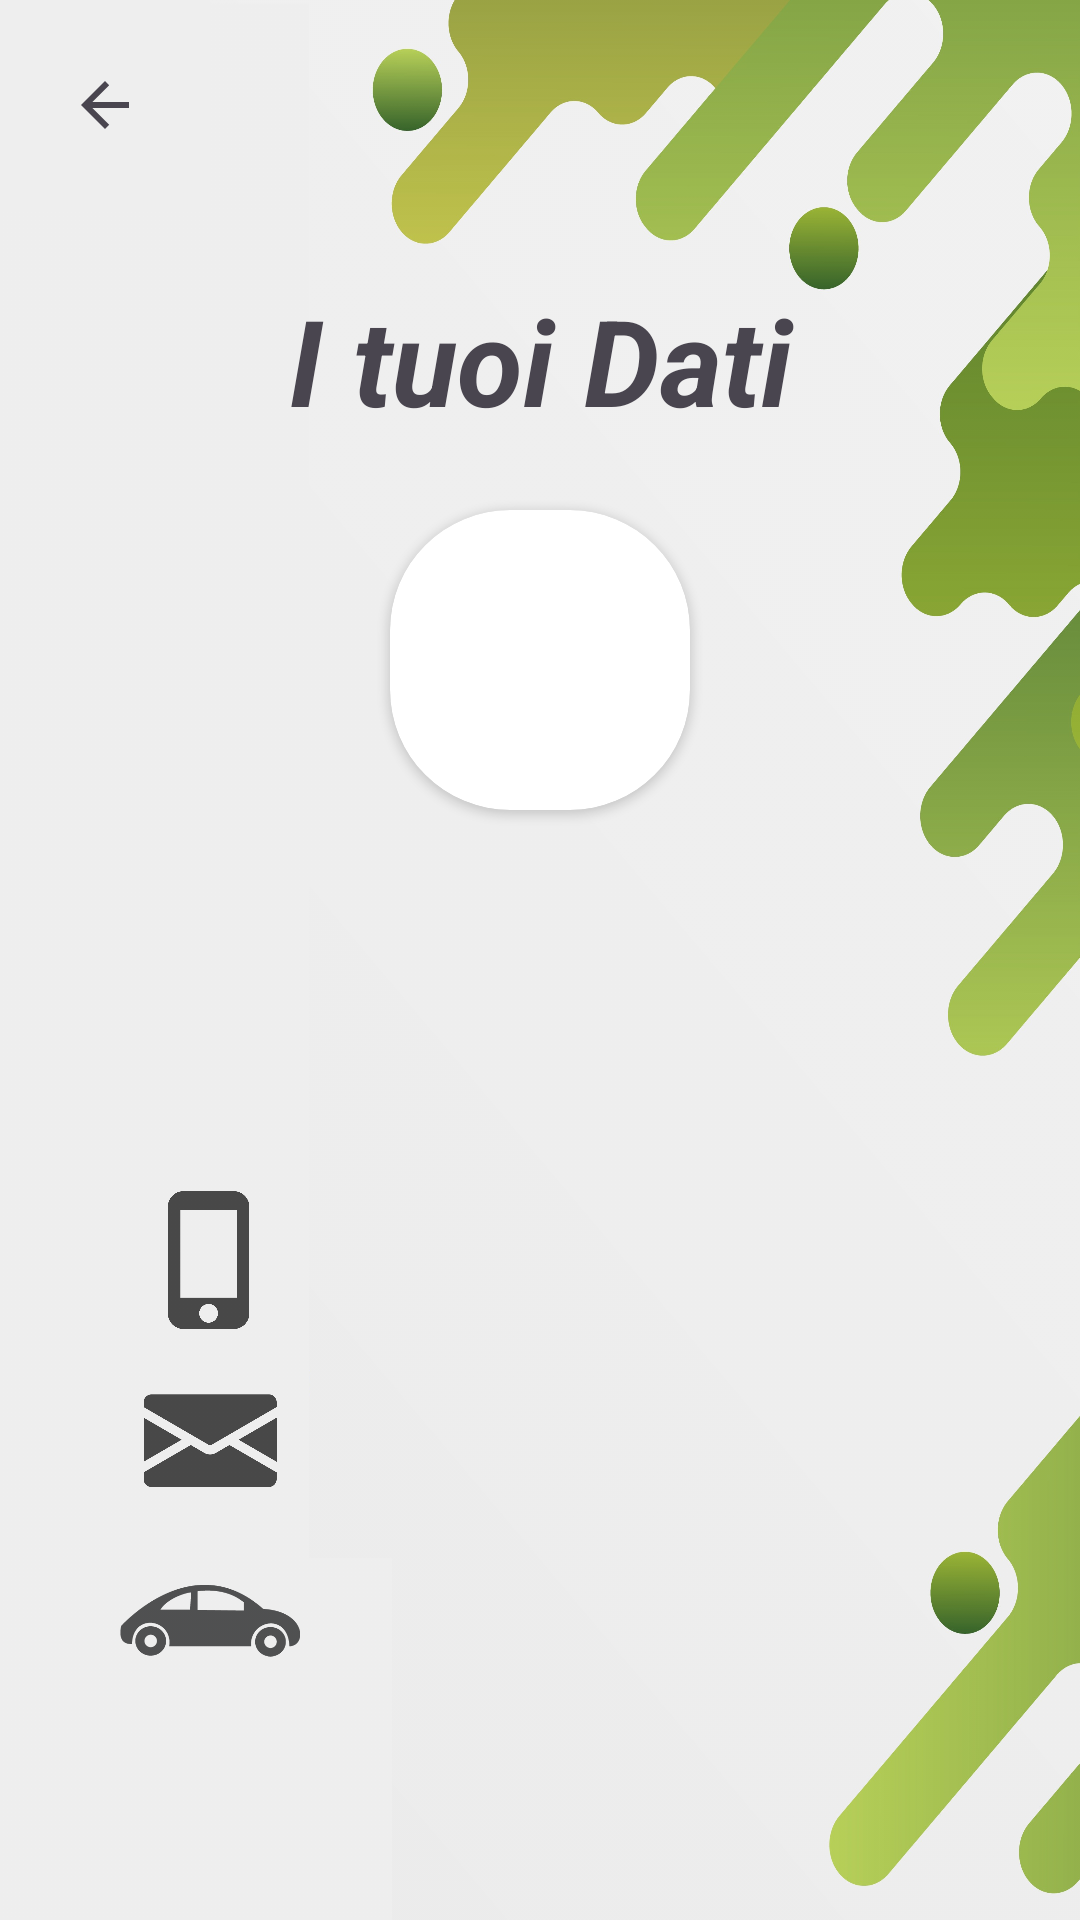

Icon bounding boxes for this 1080px×1920px phone screenshot, format {"left": x1, "top": y1, "right": x2, "bottom": y2}:
auto: {"left": 120, "top": 1585, "right": 300, "bottom": 1657}
cellulare: {"left": 168, "top": 1191, "right": 249, "bottom": 1329}
emailicon: {"left": 144, "top": 1394, "right": 277, "bottom": 1487}
